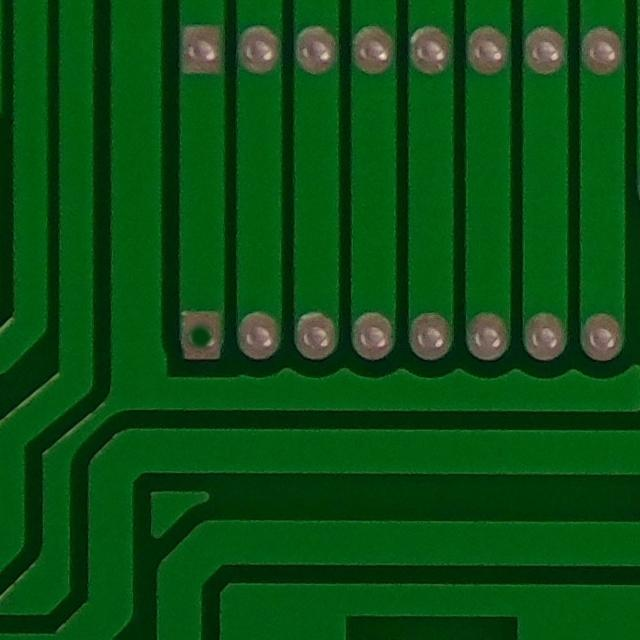missing_hole: (171, 302, 233, 366)
